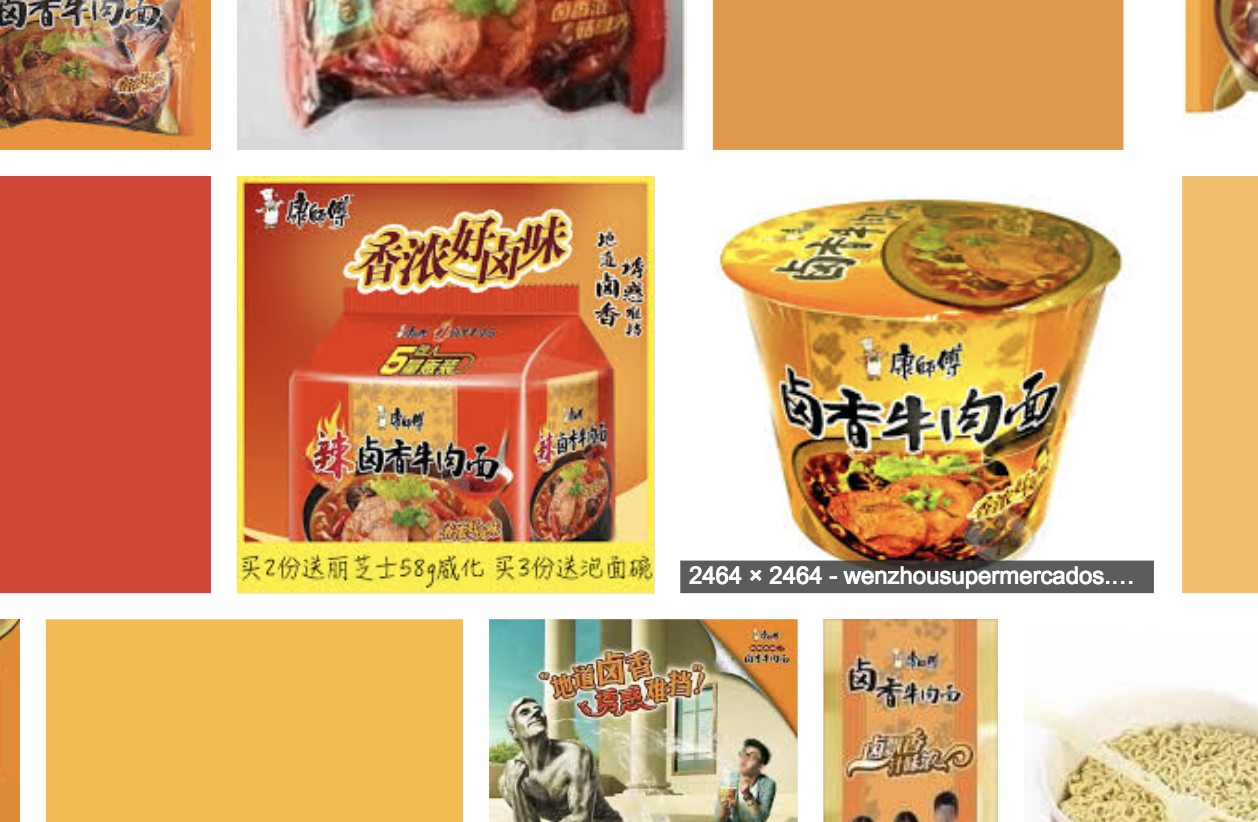luxiang: (719, 198, 1123, 560)
